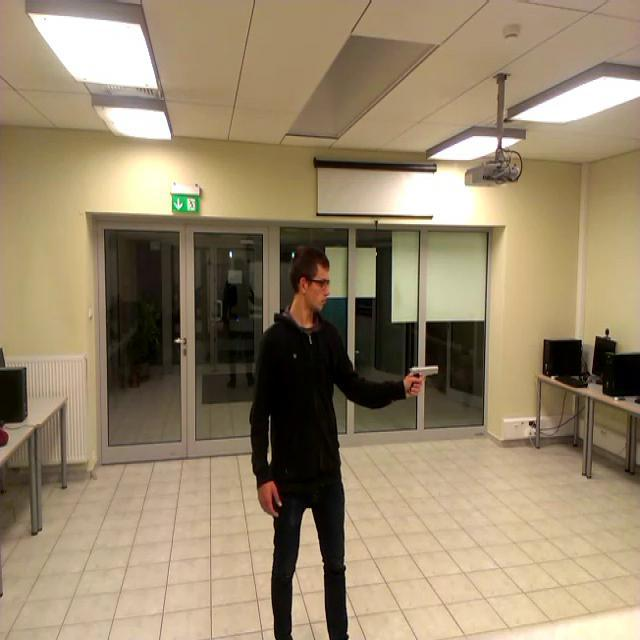Gun: (408, 364, 439, 392)
